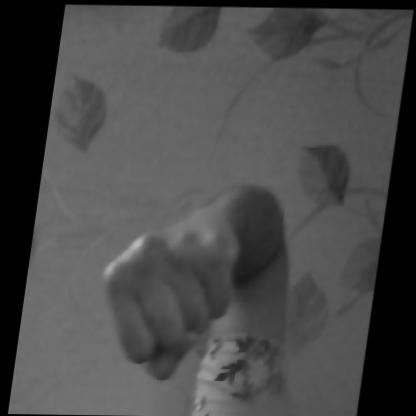fist: (92, 167, 275, 390)
